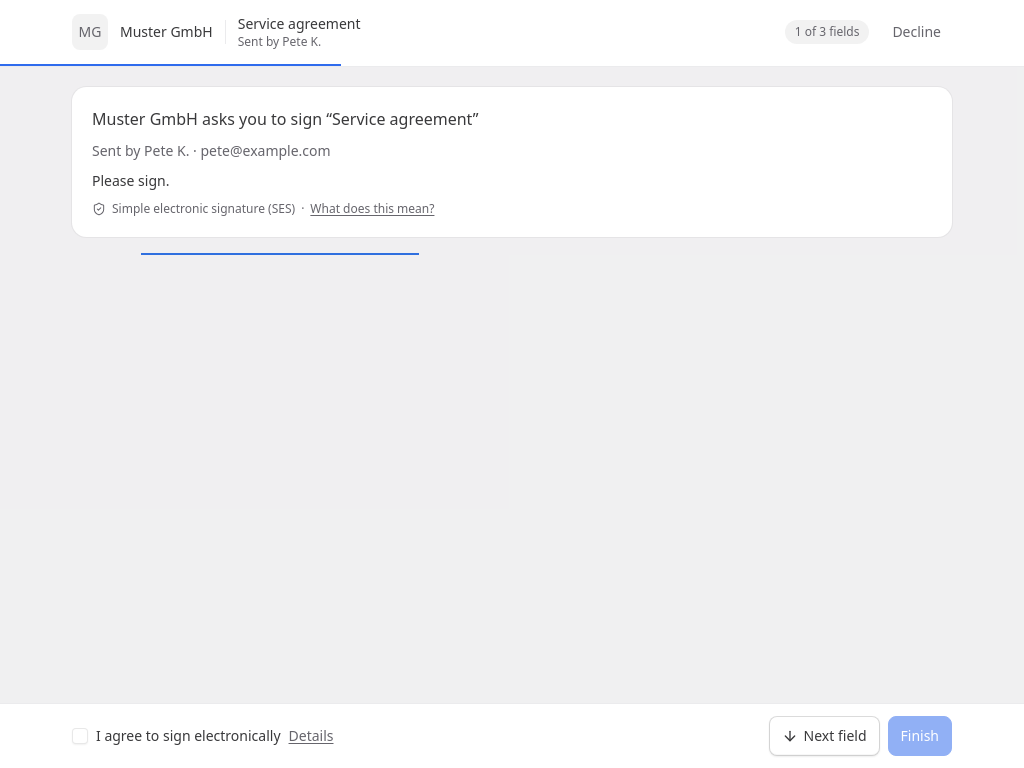
Test case: declining needs a reason
Click the button "Decline". click: (917, 32)
box: top-left (881, 16), bottom-right (952, 48)
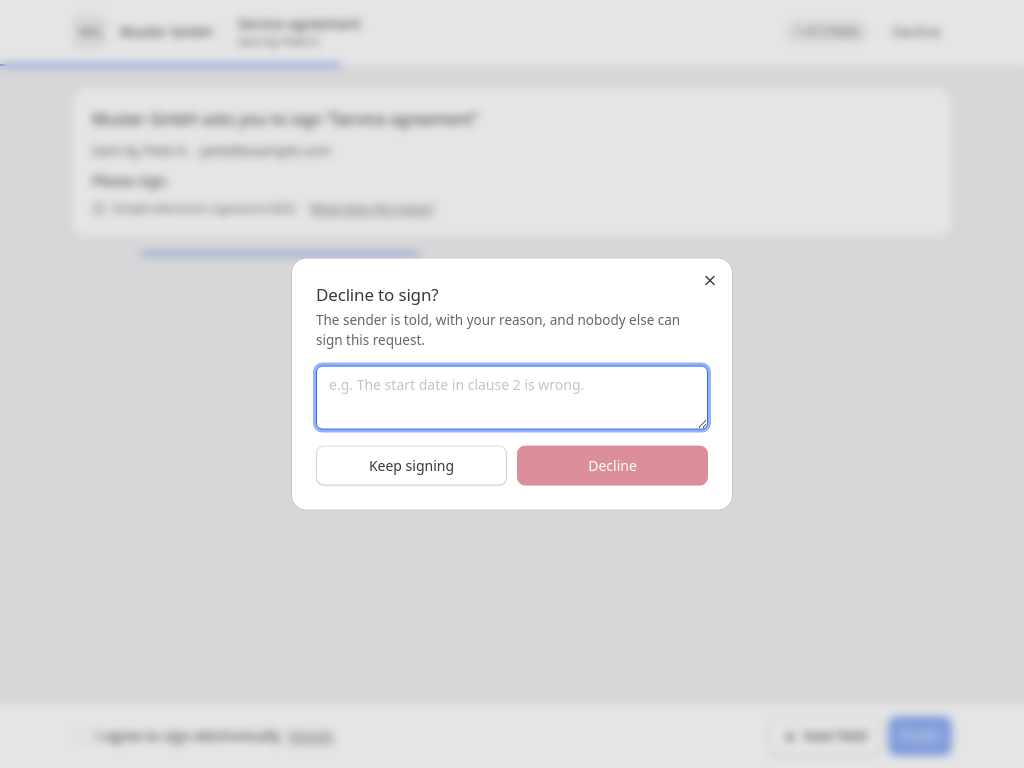
Expected: the button "Decline" is disabled, top-left (517, 445), bottom-right (708, 485)
Type "Wrong date" into the text box named "Reason". click: (512, 397)
box: top-left (316, 365), bottom-right (708, 429)
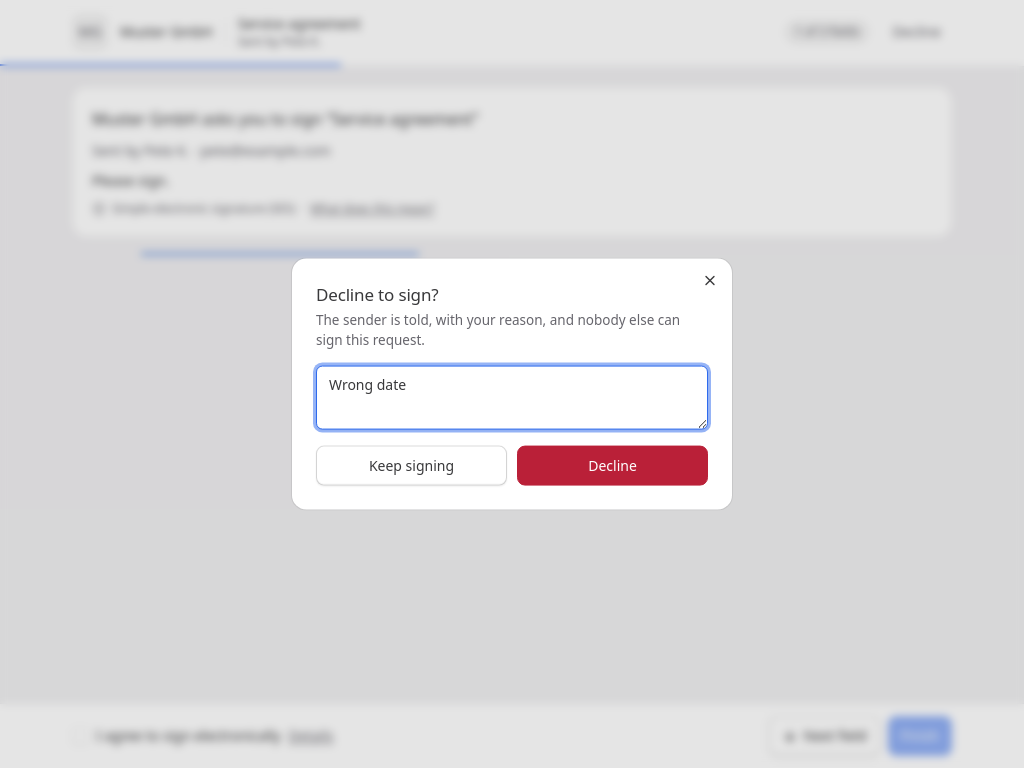
Click the button "Decline". click: (612, 465)
box: top-left (517, 445), bottom-right (708, 485)
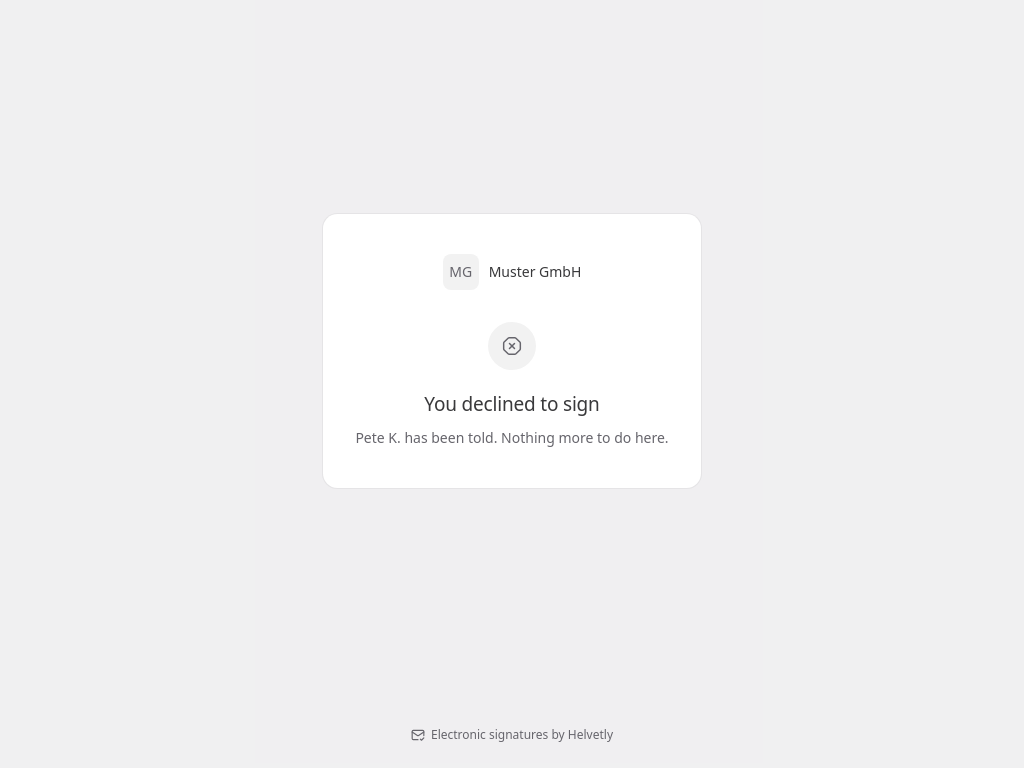
Expected: the heading "You declined to sign" is shown, top-left (424, 390), bottom-right (600, 419)
